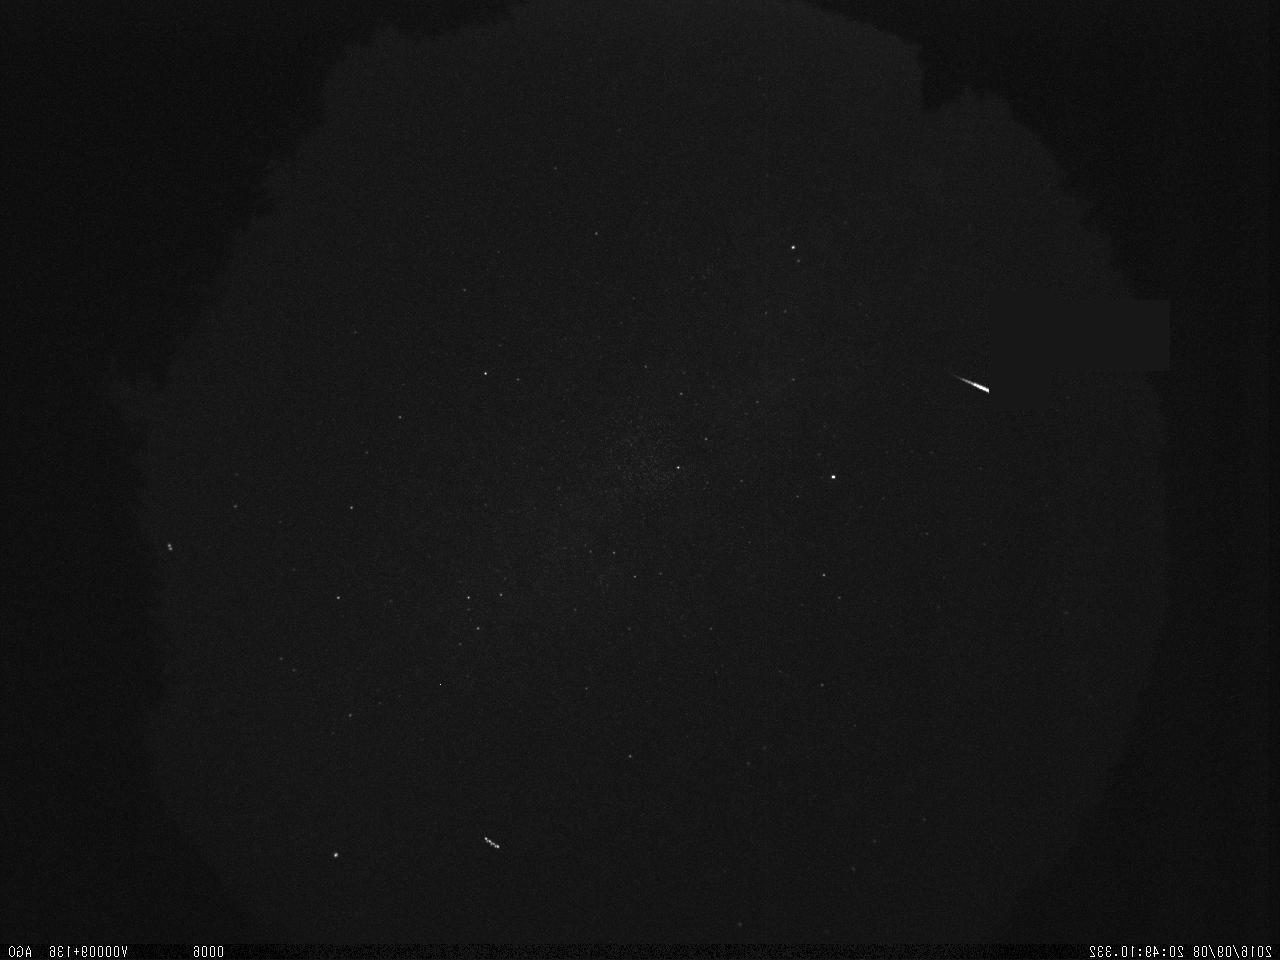meteor: (948, 362, 996, 402)
satelite: (476, 824, 507, 857)
